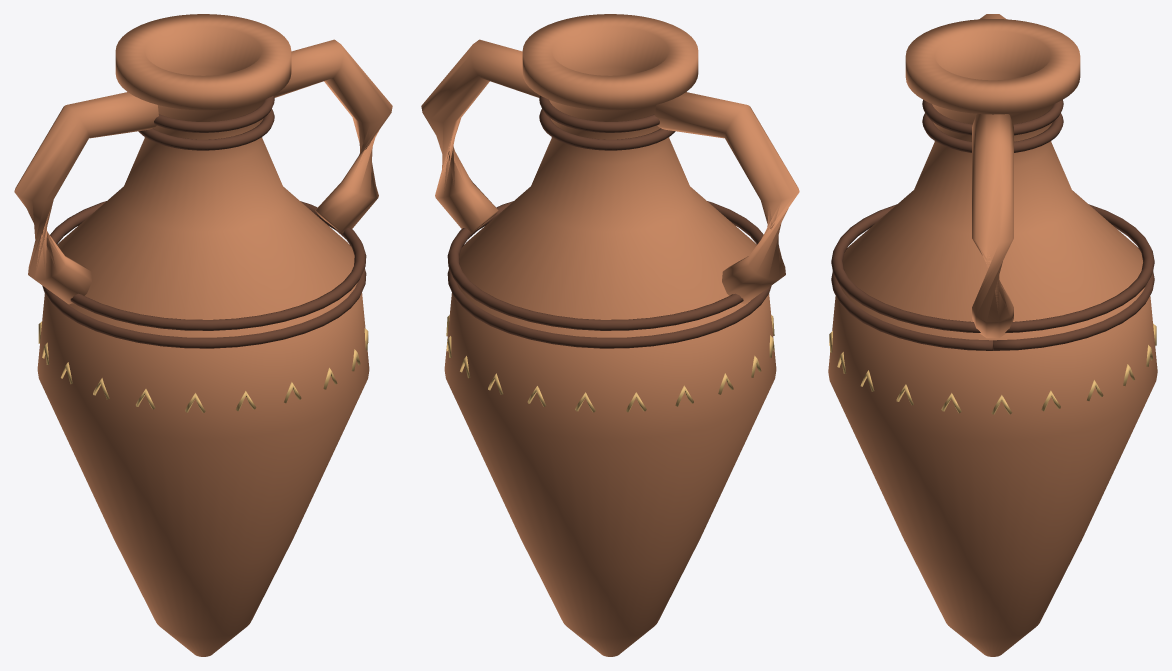
File: amphora.glb
The picture shows the model from 3 angles, left to right: view 1: azimuth 30°, elevation 25°; view 2: azimuth 150°, elevation 25°; view 3: azimuth 270°, elevation 25°; orthographic projection.
Visible parts, largest first — view 1: amphora.003__clay, amphora.003__slip, amphora.003__ochre; view 2: amphora.003__clay, amphora.003__slip, amphora.003__ochre; view 3: amphora.003__clay, amphora.003__slip, amphora.003__ochre.
Boxes of the visible parts, bbox=[...] form: amphora.003__clay: bbox=[14, 14, 392, 656]; amphora.003__slip: bbox=[42, 95, 366, 348]; amphora.003__ochre: bbox=[38, 321, 368, 412]; amphora.003__clay: bbox=[421, 14, 799, 656]; amphora.003__slip: bbox=[447, 95, 771, 348]; amphora.003__ochre: bbox=[446, 315, 774, 412]; amphora.003__clay: bbox=[828, 14, 1157, 656]; amphora.003__slip: bbox=[831, 100, 1154, 350]; amphora.003__ochre: bbox=[829, 323, 1156, 414].
Bounding box in the file's own units: 0.8798 × 1.36 × 0.68.
